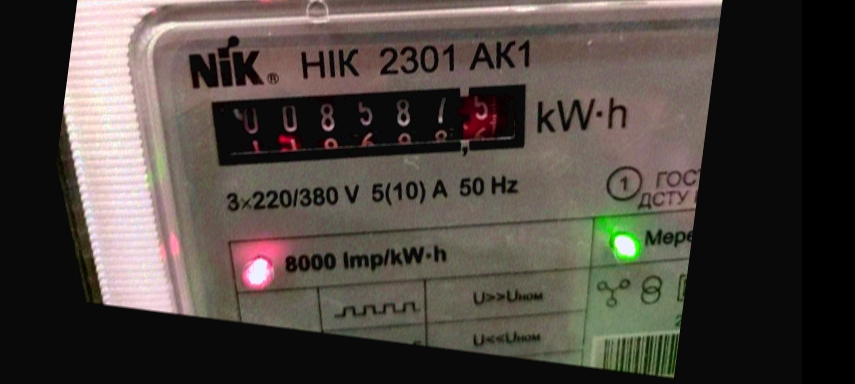0: (273, 99, 303, 136), (234, 102, 264, 137)
5: (350, 95, 377, 129), (466, 88, 492, 122)
6: (468, 124, 488, 143)
7: (426, 92, 452, 129)
8: (312, 100, 340, 135), (387, 94, 414, 130)
screen: (193, 43, 553, 209)
